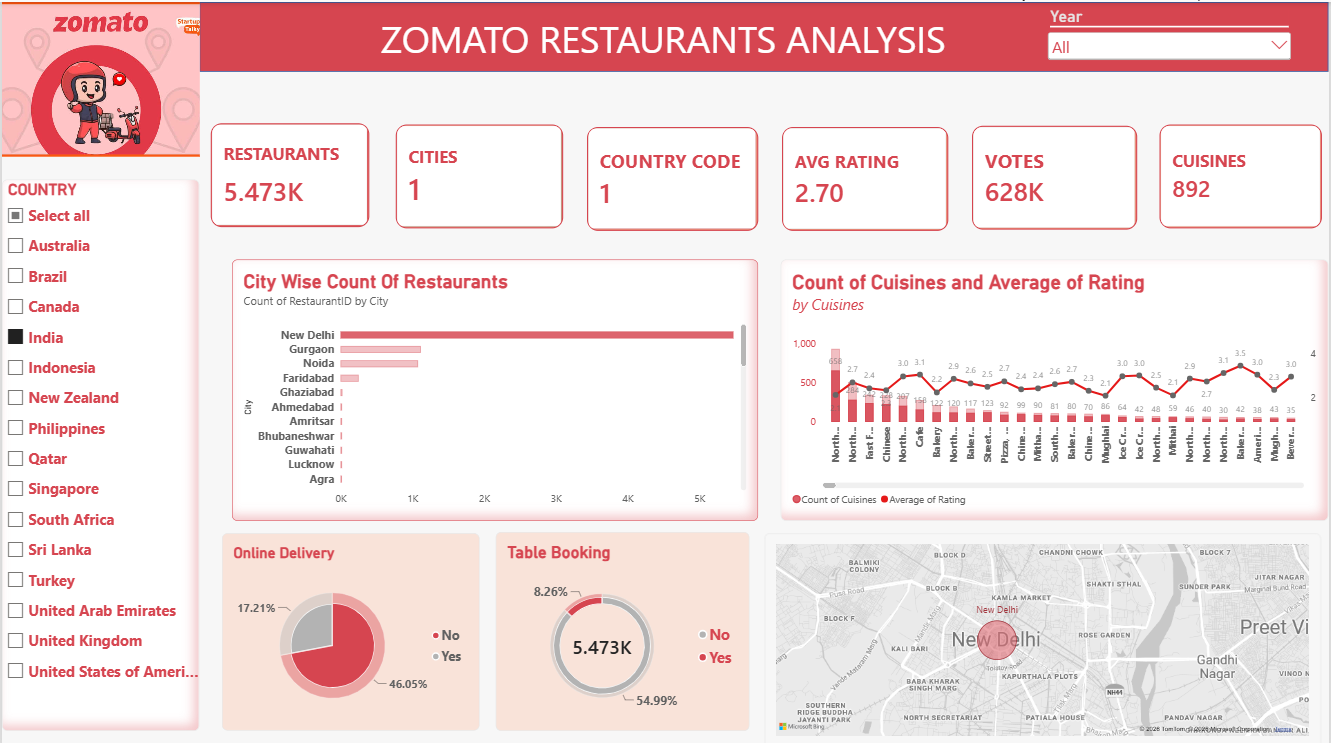

This screenshot's page, from the dashboard's own definition file:
{"tool":"powerbi","page":{"name":"Page 2","canvas":[1920,1080],"ordinal":0},"visuals":[{"type":"shape","box":[286.1,0,1634.3,100.9],"z":0},{"type":"textbox","box":[547.5,16.5,1307,308.7],"z":1000},{"type":"cardVisual","title":"Count of restaurant ID","fields":{"Data":["Count(restaurants.RestaurantID)"]},"box":[302.2,175.5,229.8,150.2],"z":2000},{"type":"cardVisual","title":"Count of restaurant ID","fields":{"Data":["Count(restaurants.City)"]},"box":[570,177.3,242.5,150.2],"z":3000},{"type":"cardVisual","title":"Count of restaurant ID","fields":{"Data":["Sum(restaurants.Votes)"]},"box":[1404.3,179.2,238.9,150.2],"z":4000},{"type":"cardVisual","title":"Count of restaurant ID","fields":{"Data":["Avg(restaurants.Rating)"]},"box":[1129.2,181,240.7,150.2],"z":5000},{"type":"cardVisual","title":"Count of restaurant ID","fields":{"Data":["Count(restaurants.CountryCode)"]},"box":[846.9,181,247.9,150.2],"z":6000},{"type":"cardVisual","title":"Count of restaurant ID","fields":{"Data":["Count(restaurants.Cuisines)"]},"box":[1675.7,177.3,235.3,150.2],"z":7000},{"type":"slicer","fields":{"Values":["countries.country name"]},"box":[0,251.5,285.9,760.1],"z":8000},{"type":"lineStackedColumnComboChart","fields":{"Category":["restaurants.Cuisines"],"Y":["CountNonNull(restaurants.Cuisines)"],"Y2":["Avg(restaurants.Rating)"]},"box":[1127.4,372.8,792.6,378.2],"z":9000},{"type":"clusteredBarChart","title":"City Wise Count Of Restaurants","fields":{"Category":["restaurants.City"],"Y":["CountNonNull(restaurants.RestaurantID)"]},"box":[333,372.8,761.9,378.2],"z":10000},{"type":"map","fields":{"Category":["restaurants.City"],"Size":["CountNonNull(restaurants.RestaurantID)"]},"box":[1103.9,769.1,805.3,311.3],"z":11000},{"type":"pieChart","title":"Online Delivery","fields":{"Category":["restaurants.Has_Online_delivery"],"Y":["CountNonNull(restaurants.RestaurantID)"]},"box":[318.5,769.1,372.8,285.9],"z":12000},{"type":"donutChart","title":"Table Booking","fields":{"Category":["restaurants.Has_Table_booking"],"Y":["CountNonNull(restaurants.RestaurantID)"]},"box":[714.8,767.3,367.4,287.7],"z":13000},{"type":"slicer","fields":{"Values":["restaurants.Datekey_Opening.Variation.Date Hierarchy.Year"]},"box":[1509.3,7.2,361.9,85.1],"z":14000},{"type":"image","box":[0,0,286.1,224.4],"z":14005}]}

Visuals, with their boxes in screenshot pixels (x1, y1, x2, y2), scaled from the page's 1920x1080 canvas onto the 1331x743 screenshot:
shape: BBox(198, 0, 1330, 69)
textbox: BBox(380, 11, 1286, 224)
"Count of restaurant ID" cardVisual: BBox(209, 121, 369, 224)
"Count of restaurant ID" cardVisual: BBox(395, 122, 563, 225)
"Count of restaurant ID" cardVisual: BBox(974, 123, 1139, 227)
"Count of restaurant ID" cardVisual: BBox(783, 125, 950, 228)
"Count of restaurant ID" cardVisual: BBox(587, 125, 759, 228)
"Count of restaurant ID" cardVisual: BBox(1162, 122, 1325, 225)
slicer - countries.country name: BBox(0, 173, 198, 696)
lineStackedColumnComboChart - restaurants.Cuisines x CountNonNull(restaurants.Cuisines): BBox(782, 256, 1330, 517)
"City Wise Count Of Restaurants" clusteredBarChart: BBox(231, 256, 759, 517)
map - restaurants.City x CountNonNull(restaurants.RestaurantID): BBox(765, 529, 1324, 742)
"Online Delivery" pieChart: BBox(221, 529, 479, 726)
"Table Booking" donutChart: BBox(496, 528, 750, 726)
slicer - restaurants.Datekey_Opening.Variation.Date Hierarchy.Year: BBox(1046, 5, 1297, 63)
image: BBox(0, 0, 198, 154)
